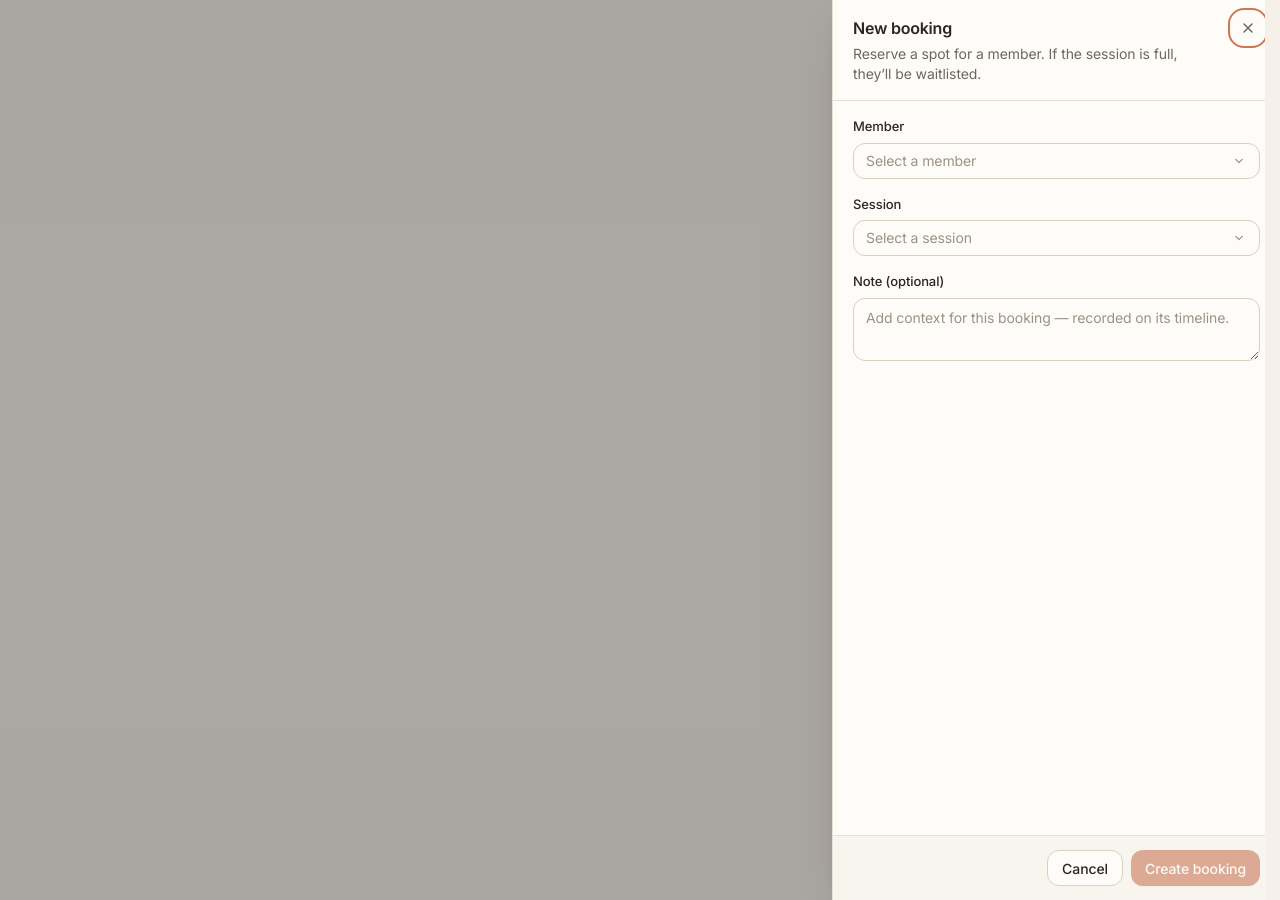
Test case: BookingCreateDrawer › shows the server error and NO success state when the booking is rejected
What coordinates should you click on to do the following:
click the dropdown labelled "member"
I would click on:
 (921, 160)
Its box is [853, 142, 1260, 178].
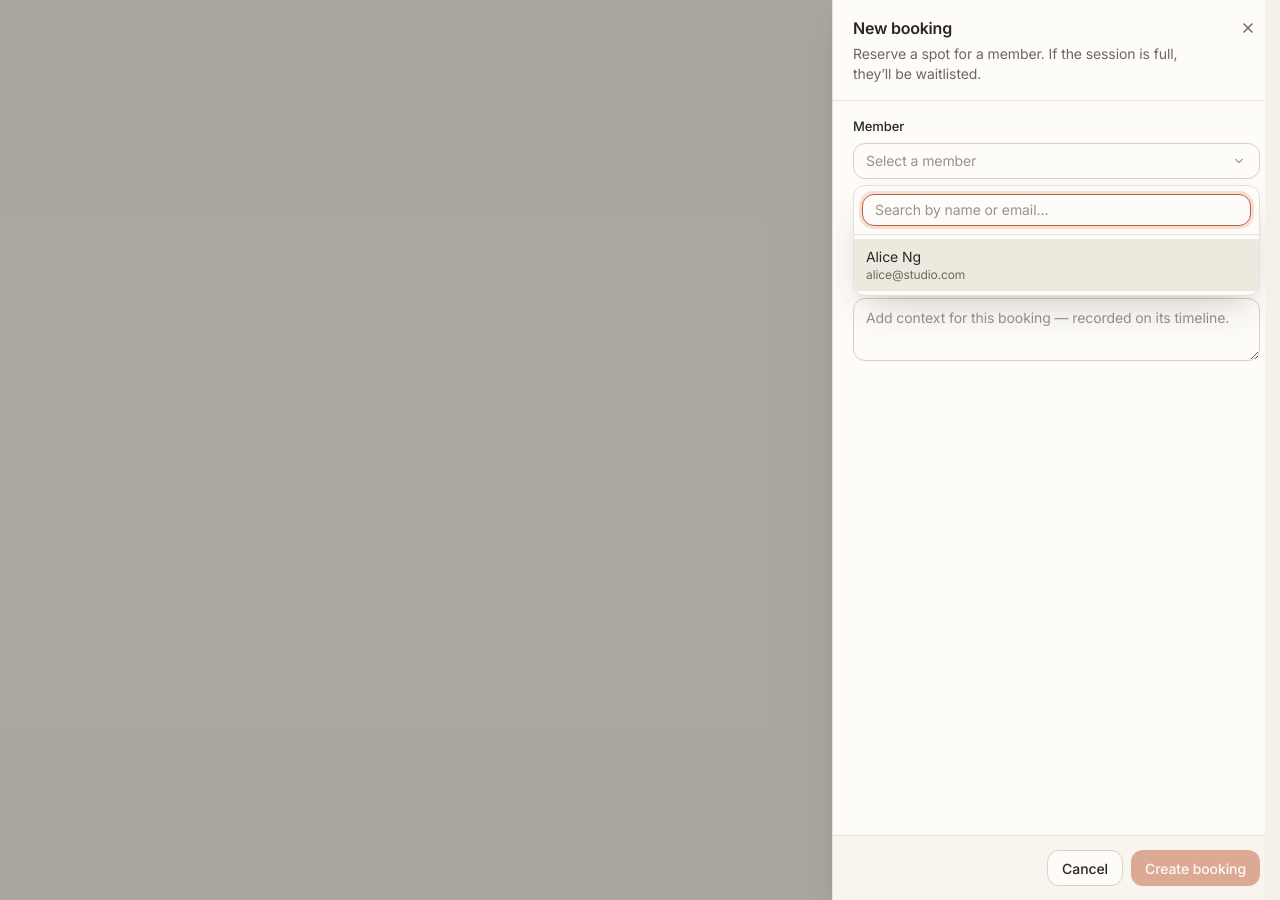
What coordinates should you click on to do the following:
click the button "Alice Ng alice@studio.com"
I would click on:
 (893, 256)
Its box is [854, 238, 1259, 290].
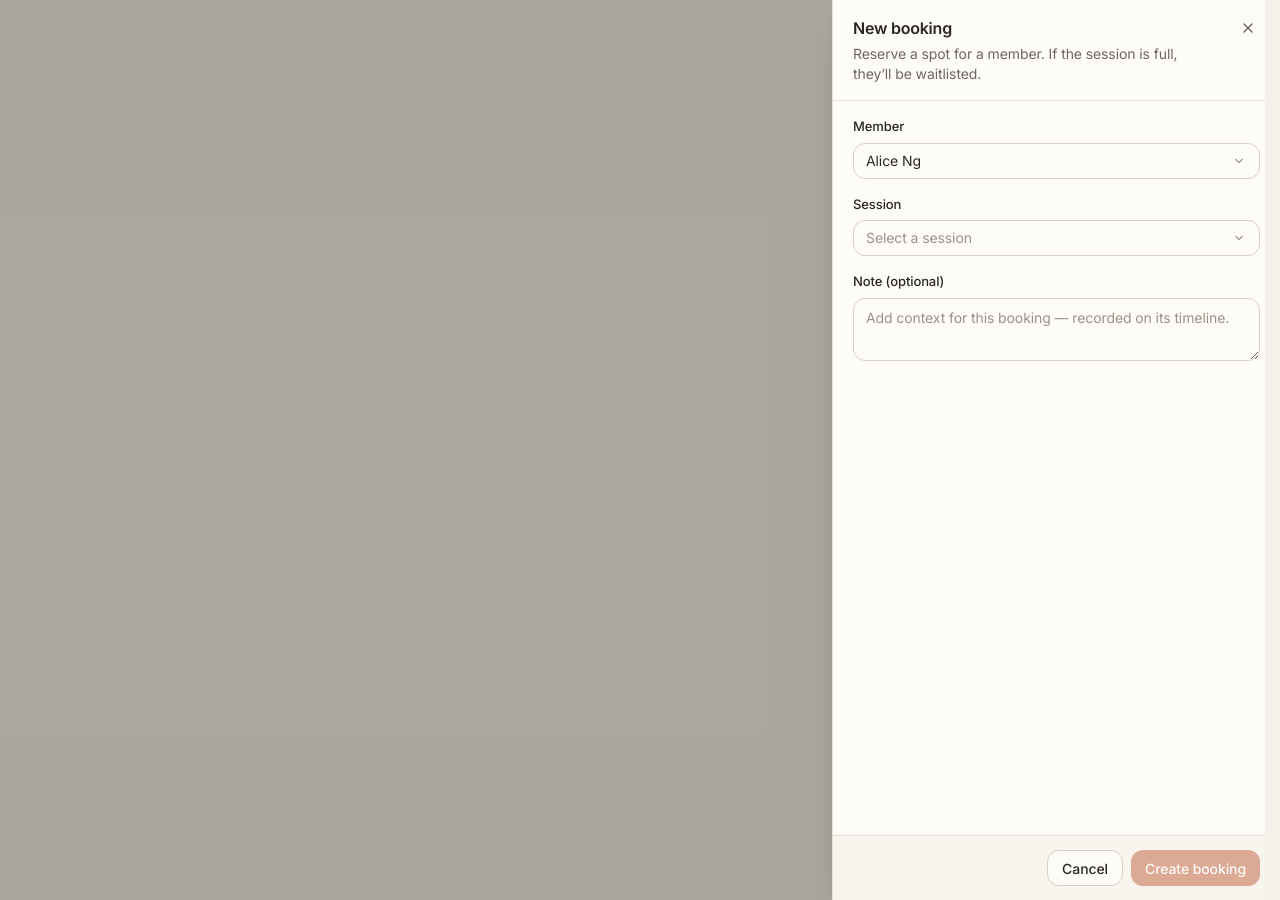
What coordinates should you click on to do the following:
click the dropdown labelled "session"
I would click on:
 (919, 238)
Its box is [853, 220, 1260, 256].
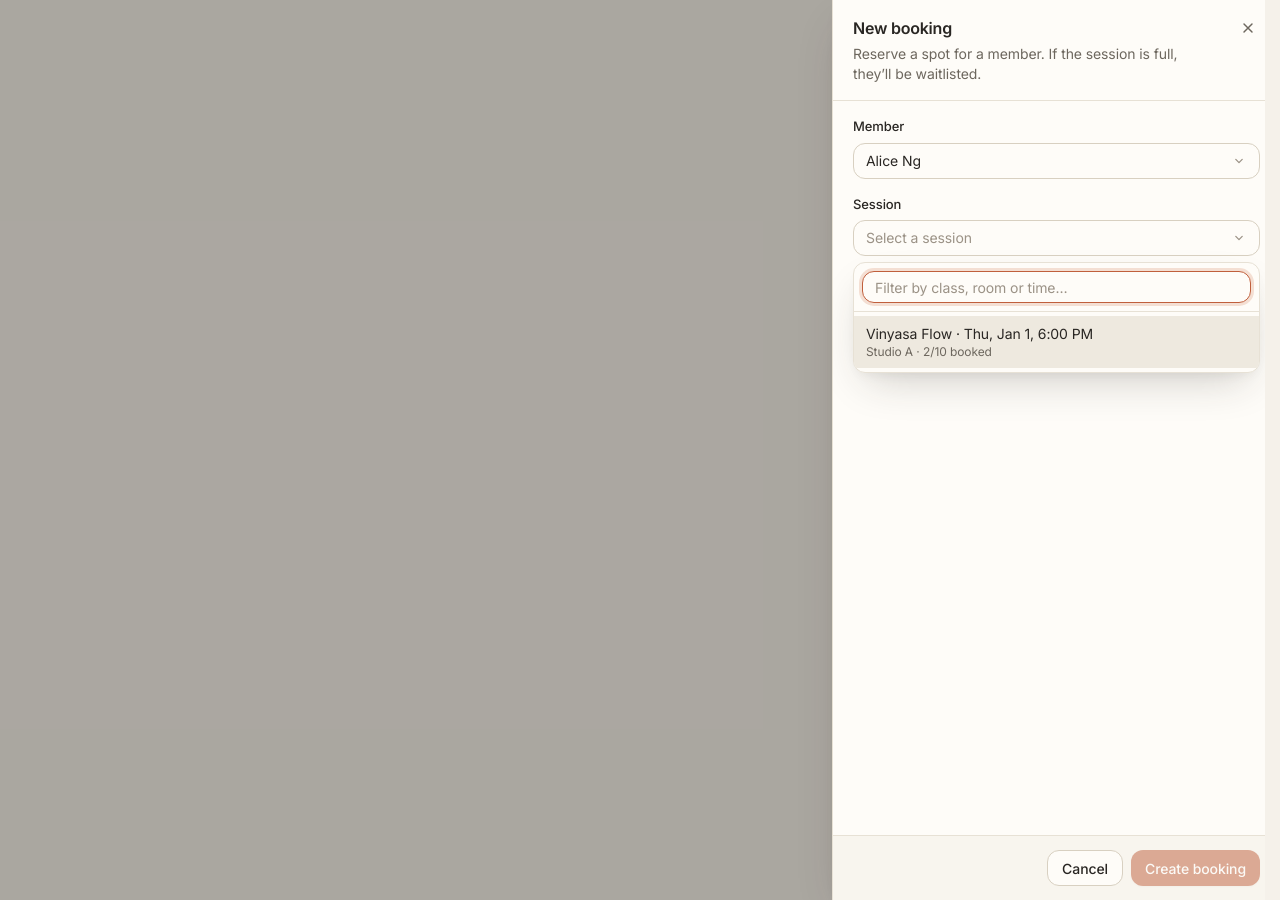
What coordinates should you click on to do the following:
click the button "Vinyasa Flow · Thu, Jan 1, 6:00 PM Studio A · 2/10 booked"
I would click on:
 (1056, 342)
Its box is [854, 316, 1259, 368].
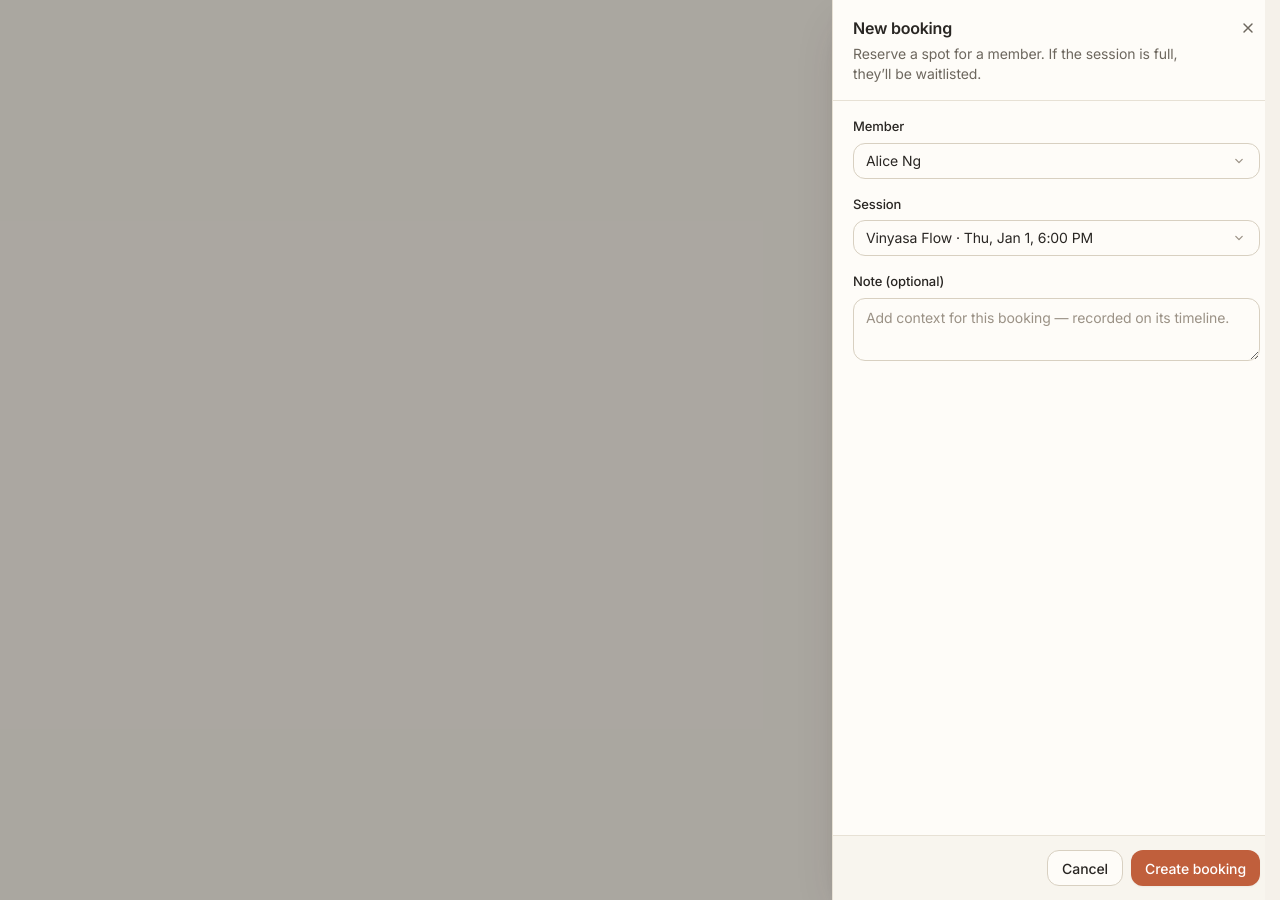
What coordinates should you click on to do the following:
click the button "Create booking"
I would click on:
 (1196, 868)
Its box is [1131, 850, 1260, 886].
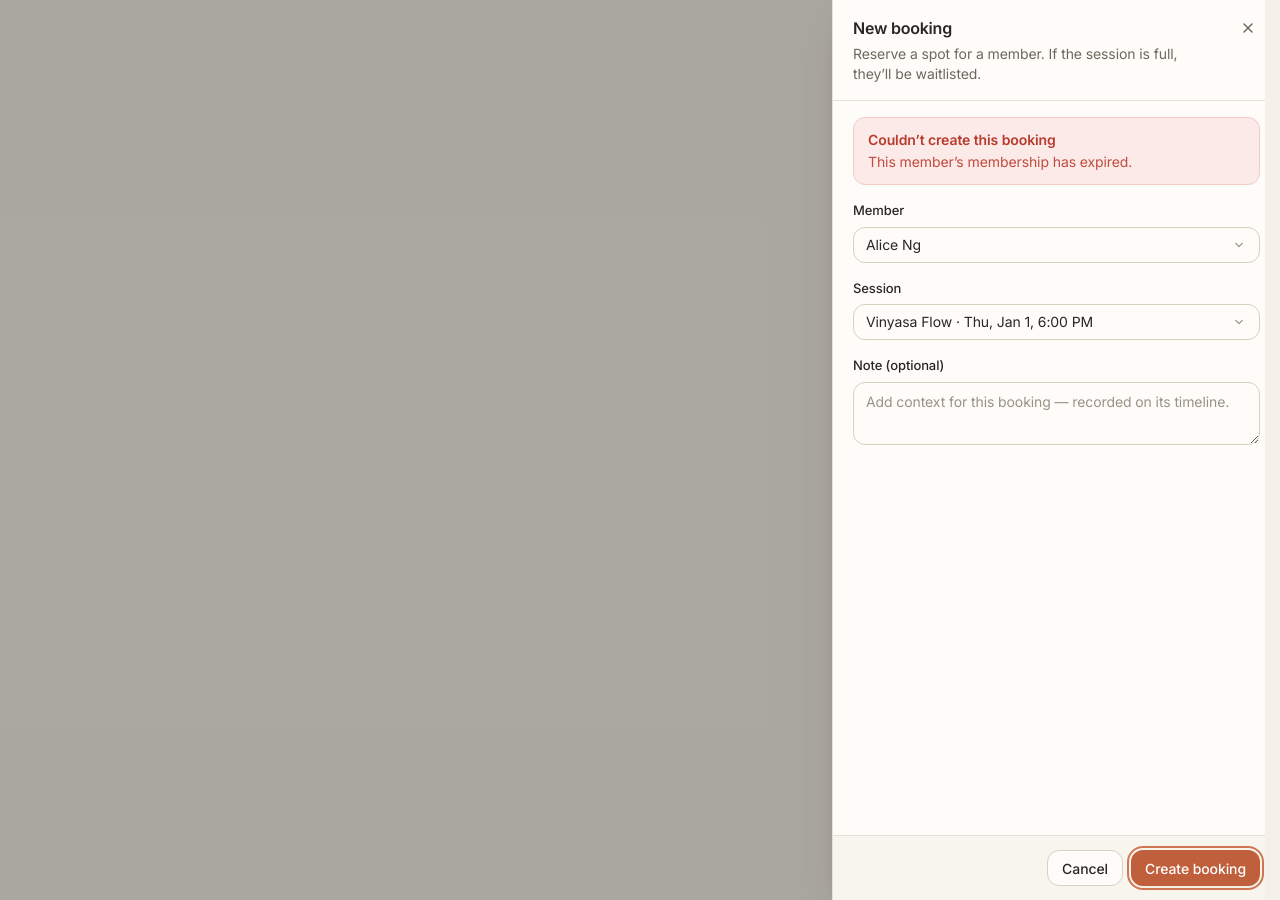
Now the text "This member’s membership has expired." is shown, box [868, 153, 1132, 170]
